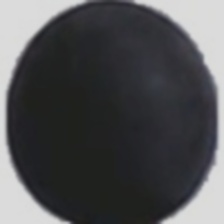grapes: (28, 1, 167, 186)
